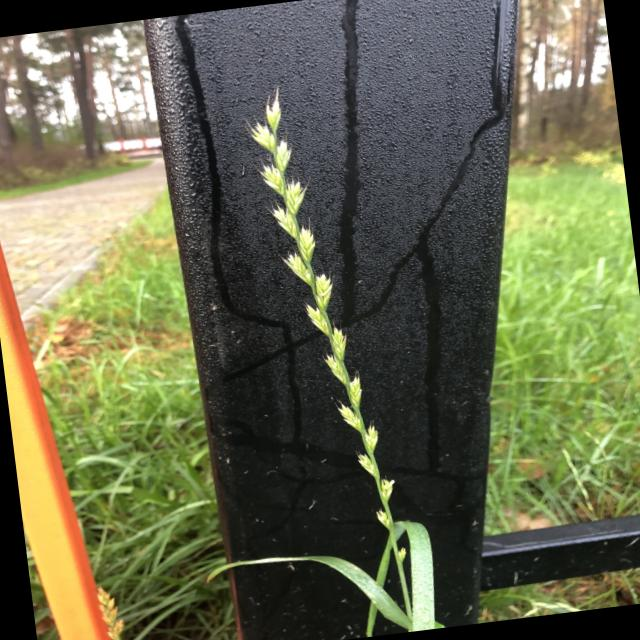Lolium: (238, 76, 421, 640)
